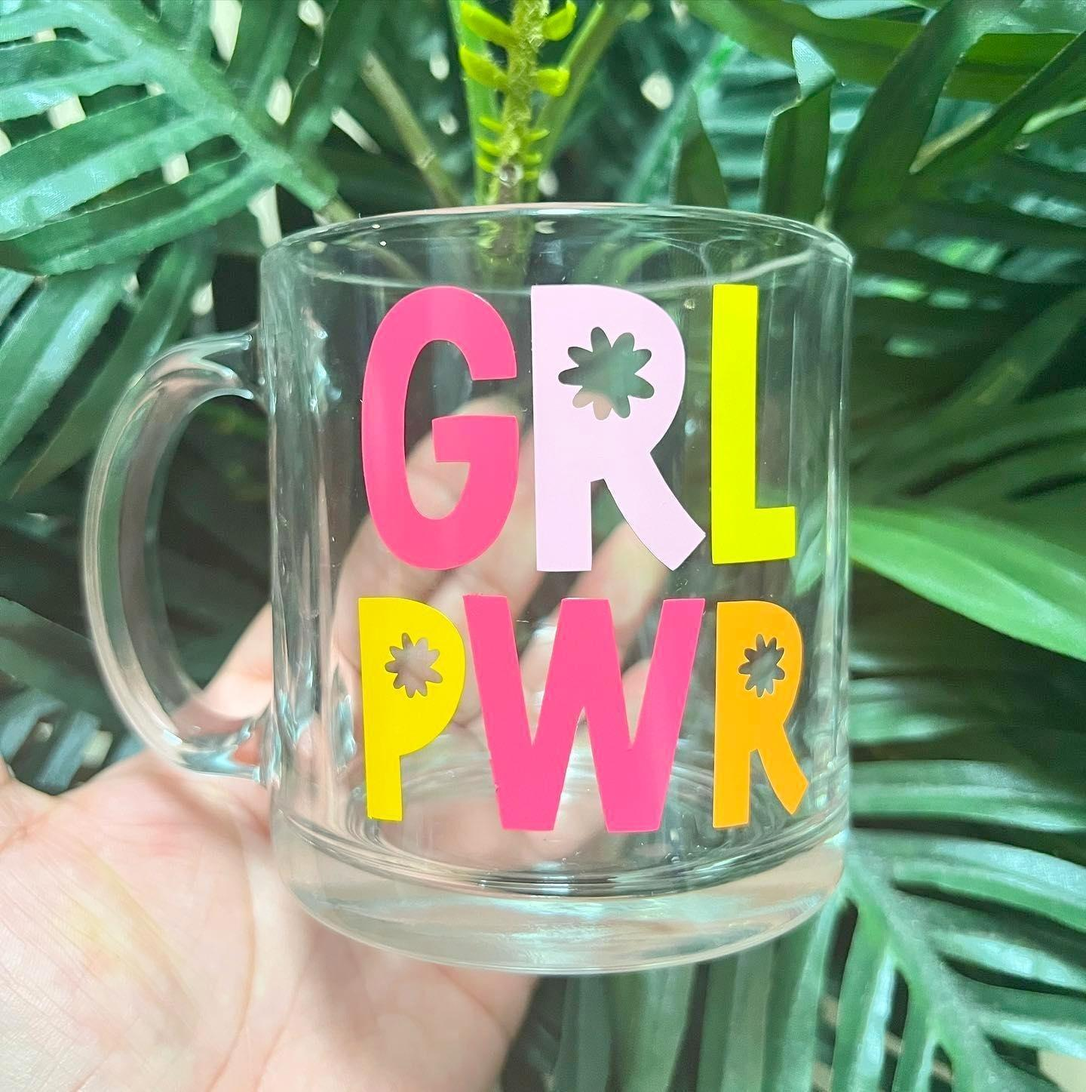glass-mug: (73, 186, 874, 996)
